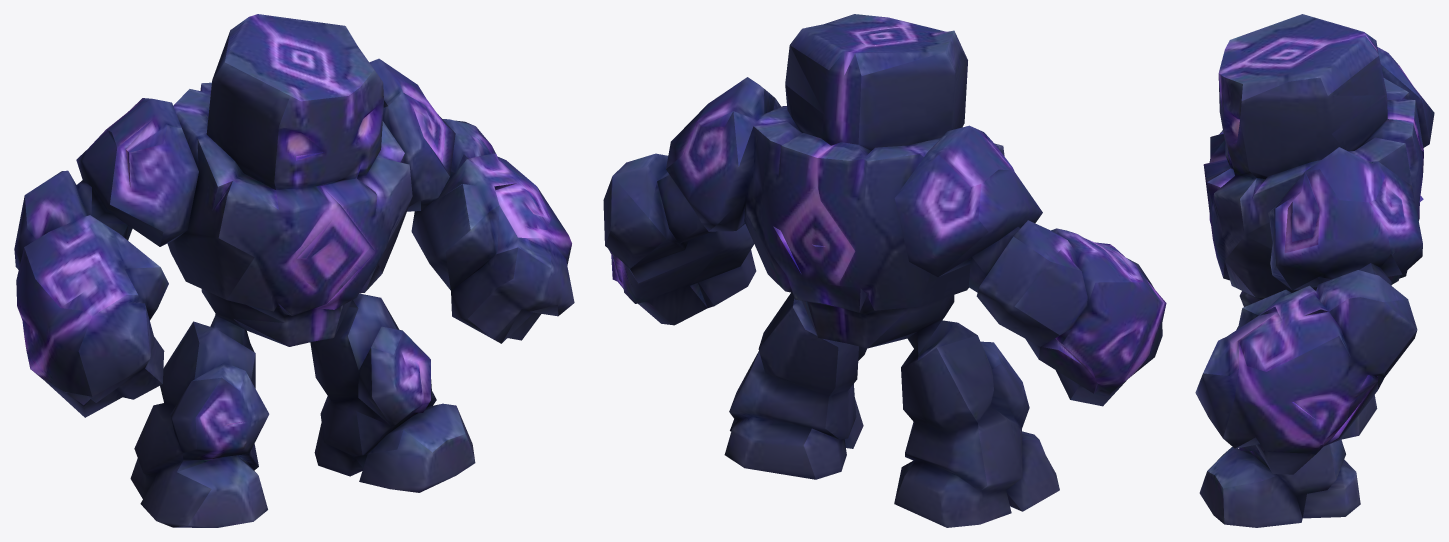
File: m_gardien_runique.glb
3 renders of one model, left to right at view 1: azimuth 30°, elevation 25°; view 2: azimuth 150°, elevation 25°; view 3: azimuth 270°, elevation 25°, orthographic. The views are drawn at different scales.
Parts seen in each view (by area): view 1: monstre; view 2: monstre; view 3: monstre.
Part boxes in pixels (box(x1,y1,x2,y2)): monstre: box(14, 14, 574, 527); monstre: box(603, 14, 1166, 527); monstre: box(1195, 14, 1434, 527).
Bounding box in the file's own units: 1 × 0.811 × 0.4119.
Materials: 1 (1 with a texture image).
